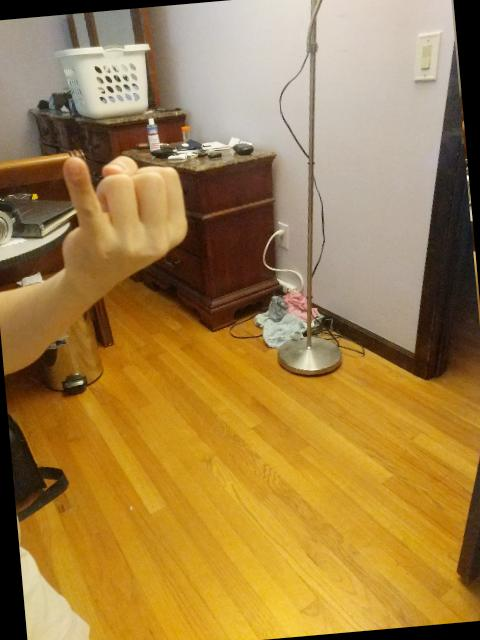J: (48, 140, 202, 304)
